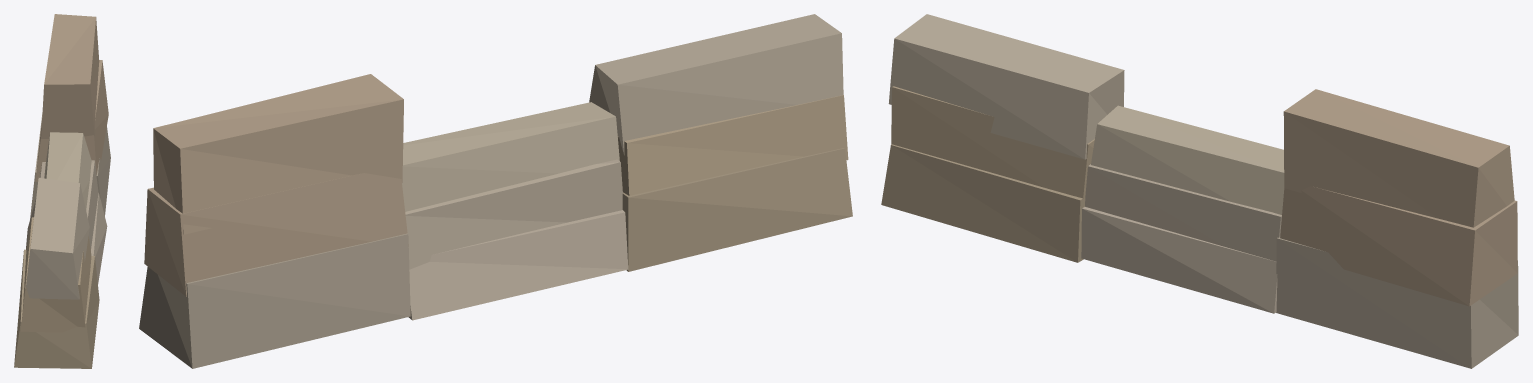
Rendered from farm_-4_16_mid.glb.
The picture shows the model from 3 angles, left to right: view 1: azimuth 30°, elevation 25°; view 2: azimuth 150°, elevation 25°; view 3: azimuth 270°, elevation 25°; orthographic projection. The views are drawn at different scales.
Parts seen in each view (by area): view 1: geometry_0; view 2: geometry_0; view 3: geometry_0.
Part boxes in pixels (x1,y1,x2,y2): geometry_0: [14, 14, 110, 368]; geometry_0: [139, 14, 852, 368]; geometry_0: [881, 14, 1518, 368].
Bounding box in the file's own units: 3.17 × 1.52 × 4.39.
